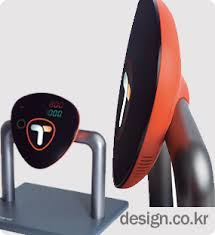terminal: (10, 93, 81, 170)
